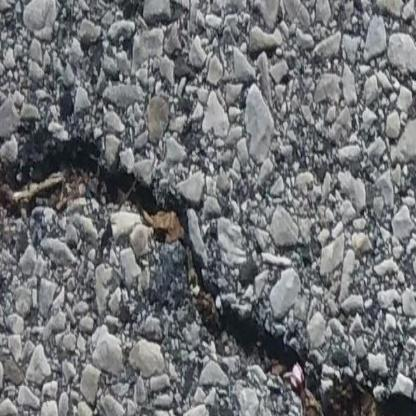Cracks: (0, 122, 416, 416)
